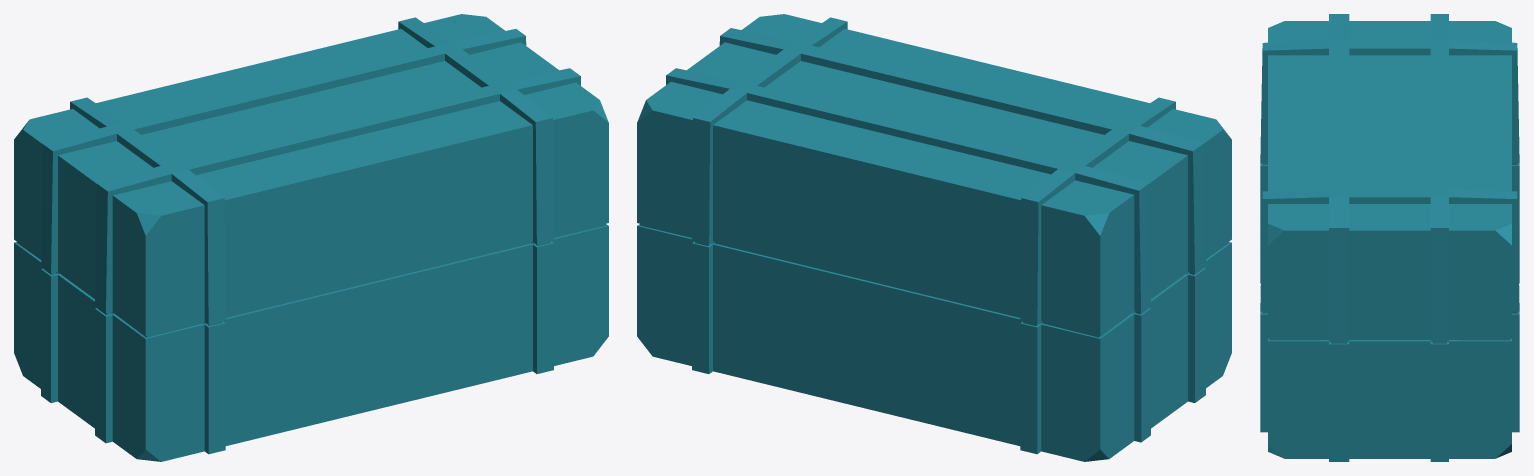
The model's file is DBGunCase.glb.
The picture shows the model from 3 angles, left to right: view 1: azimuth 30°, elevation 25°; view 2: azimuth 150°, elevation 25°; view 3: azimuth 270°, elevation 25°; orthographic projection. The views are drawn at different scales.
Visible parts, largest first — view 1: Cube.001; view 2: Cube.001; view 3: Cube.001.
Boxes of the visible parts, <box> form: Cube.001: <box>14,14,608,461</box>; Cube.001: <box>637,14,1231,461</box>; Cube.001: <box>1260,14,1519,461</box>.
Bounding box in the file's own units: 7.86 × 3.99 × 3.99.
1 material, 1 textured.
